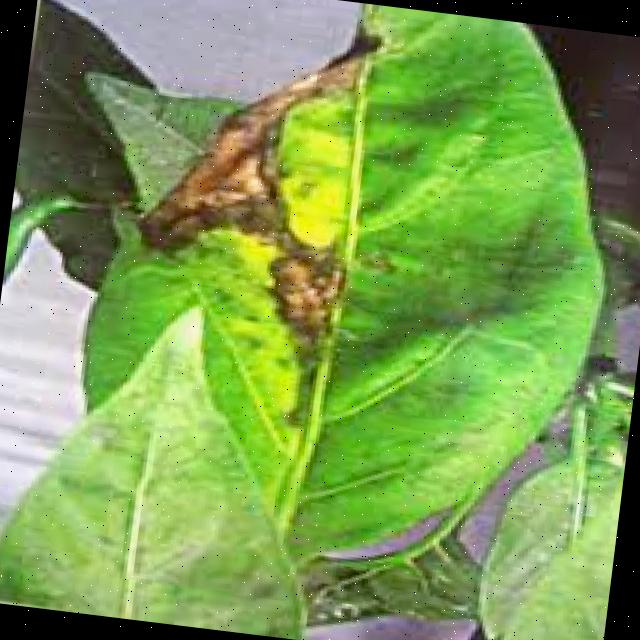leaf spot: (43, 0, 640, 593)
